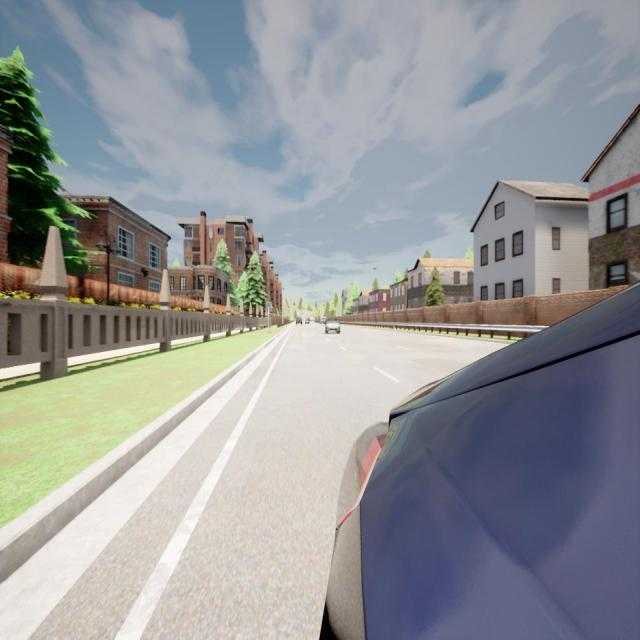Traffic_Signs: (266, 304, 271, 312)
Vehicle: (320, 283, 640, 638), (324, 316, 340, 334), (296, 317, 302, 325), (320, 317, 326, 324), (304, 319, 310, 324), (314, 320, 320, 324)
